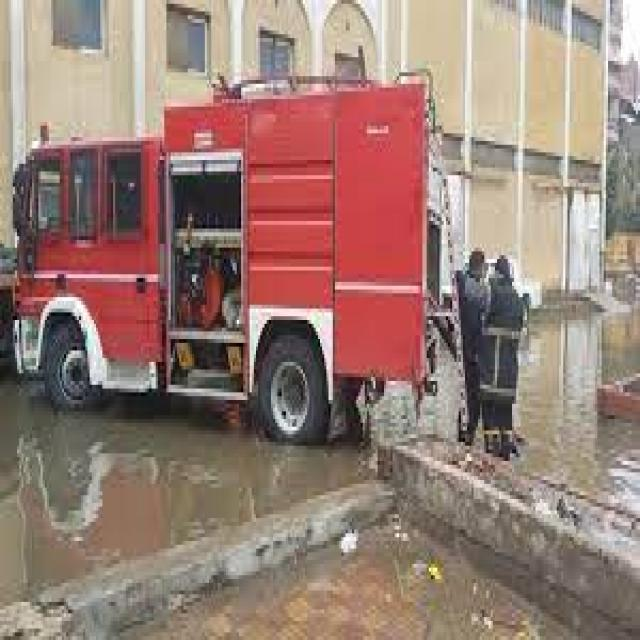pompier: (15, 77, 448, 442)
